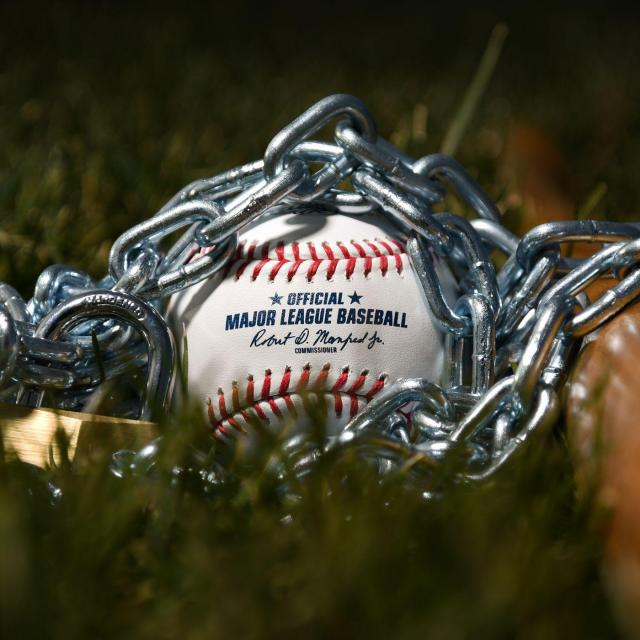baseball: (164, 209, 444, 461)
